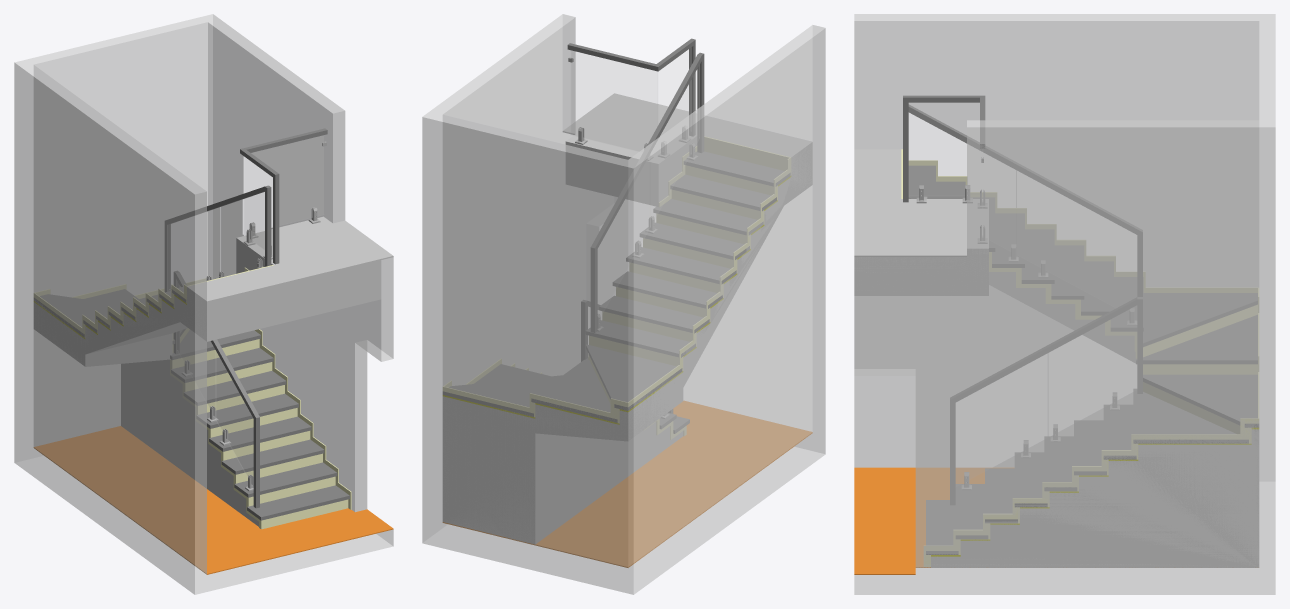
Rendered from устройство лестницы на бетонном основании со стеклянным ограждениембезкалитки.obj.
3 views of the same model, side by side, from view 1: azimuth 30°, elevation 25°; view 2: azimuth 150°, elevation 25°; view 3: azimuth 270°, elevation 25° (orthographic). The views are drawn at different scales.
Bounding box in the file's own units: 2.44 × 4.7 × 3.84.
